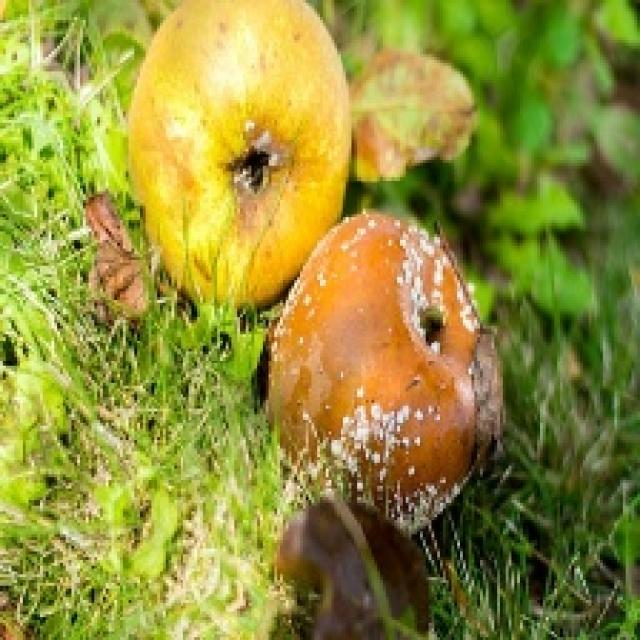rotten_apple: (275, 213, 492, 518)
